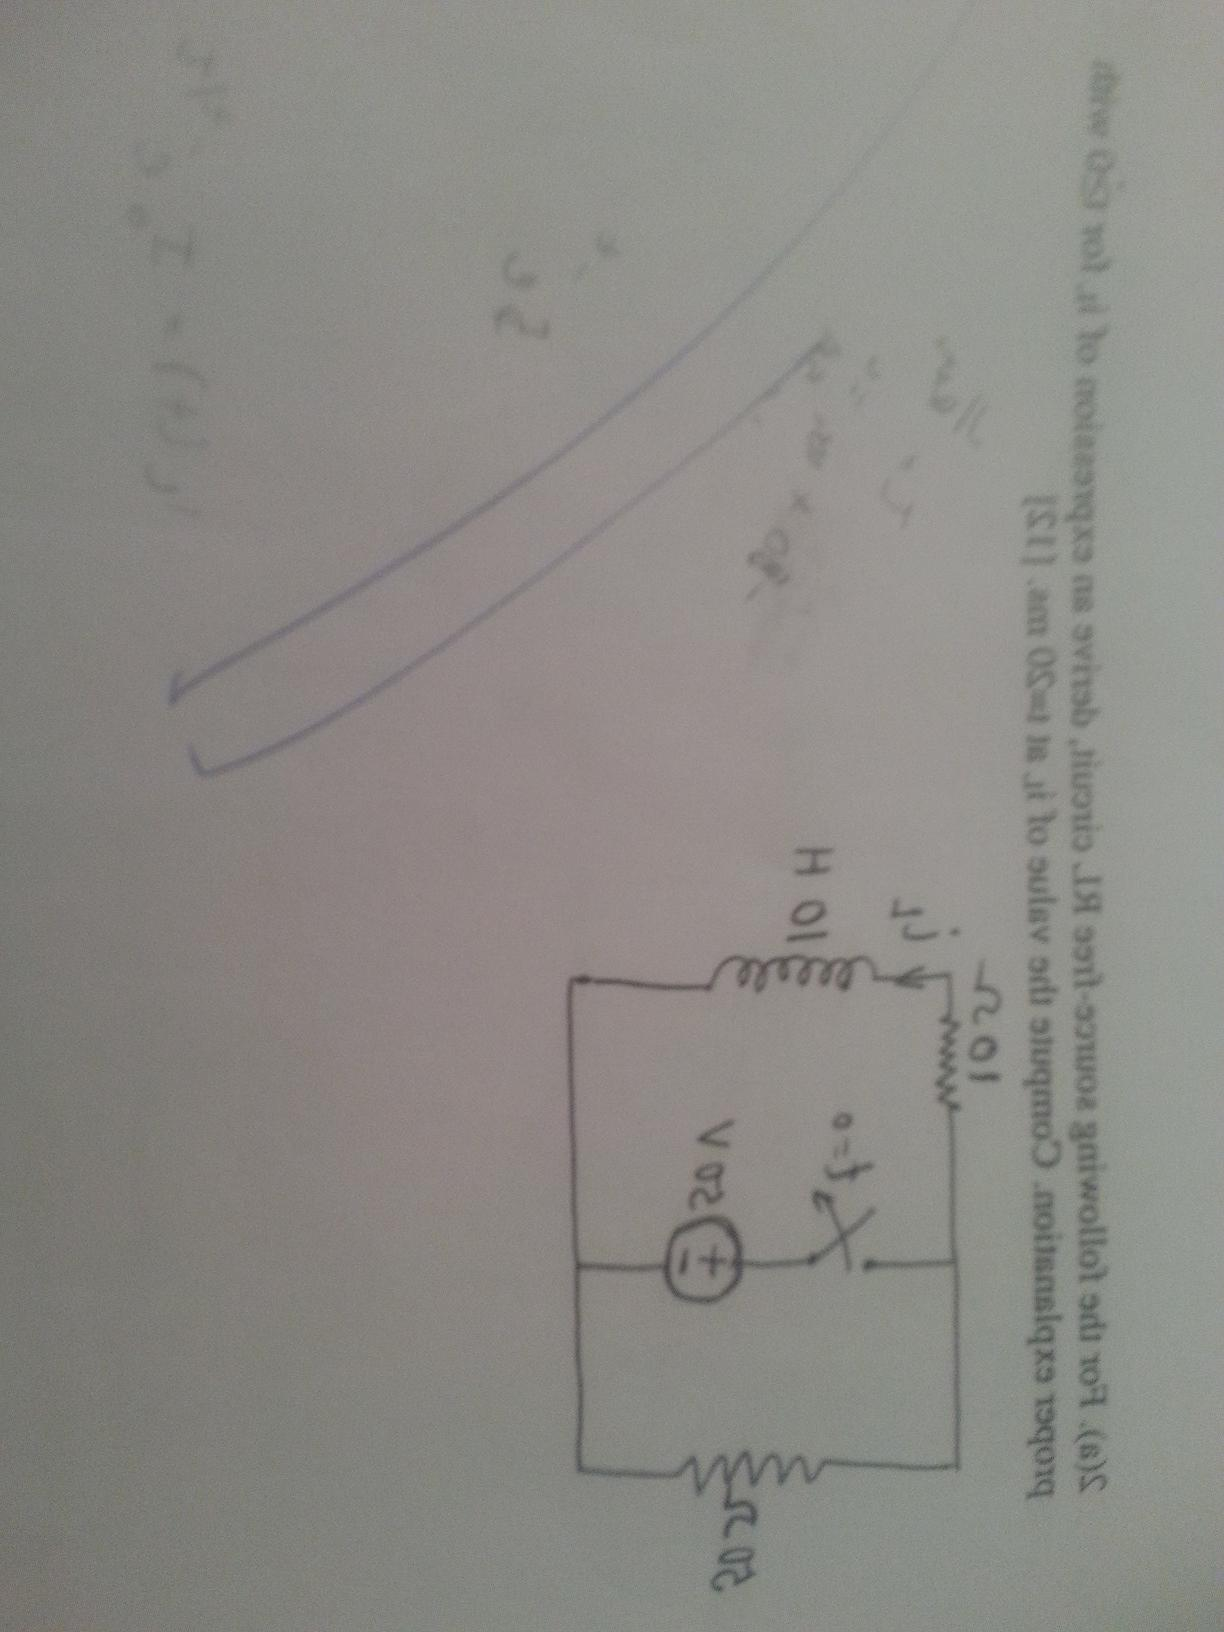Battery: (624, 1193, 770, 1334)
